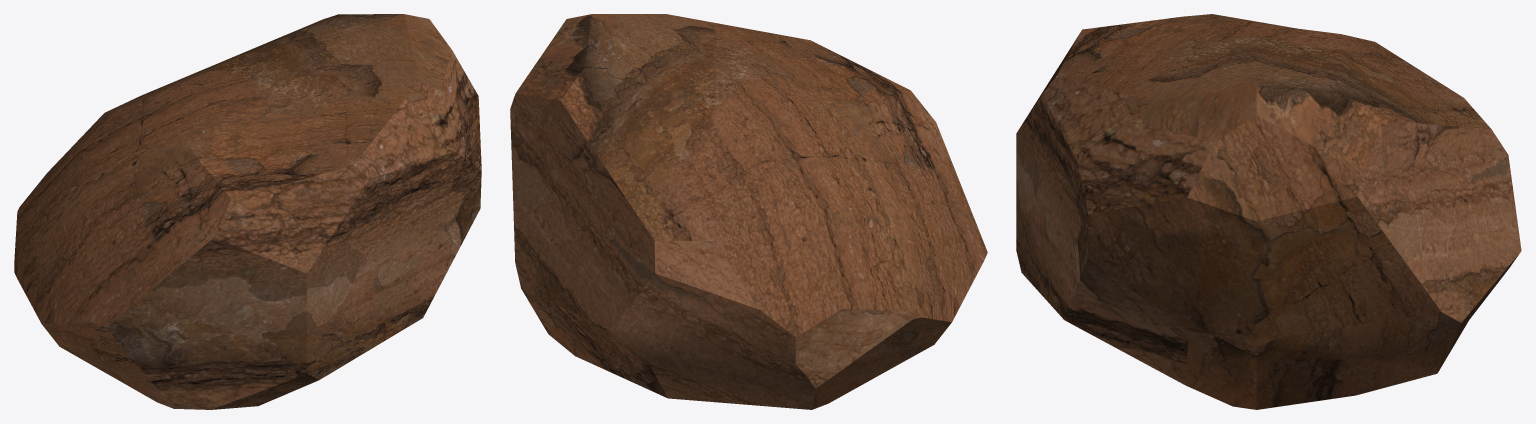
The model's file is Rock5.fbx.
3 renders of one model, left to right at view 1: azimuth 30°, elevation 25°; view 2: azimuth 150°, elevation 25°; view 3: azimuth 270°, elevation 25°, orthographic. The views are drawn at different scales.
Parts seen in each view (by area): view 1: Rock5; view 2: Rock5; view 3: Rock5.
Part boxes in pixels (x1,y1,x2,y2): Rock5: (14, 14, 481, 409); Rock5: (510, 14, 987, 409); Rock5: (1016, 14, 1521, 409).
Bounding box in the file's own units: 345 × 222 × 307.
Materials: 1 (1 with a texture image).
